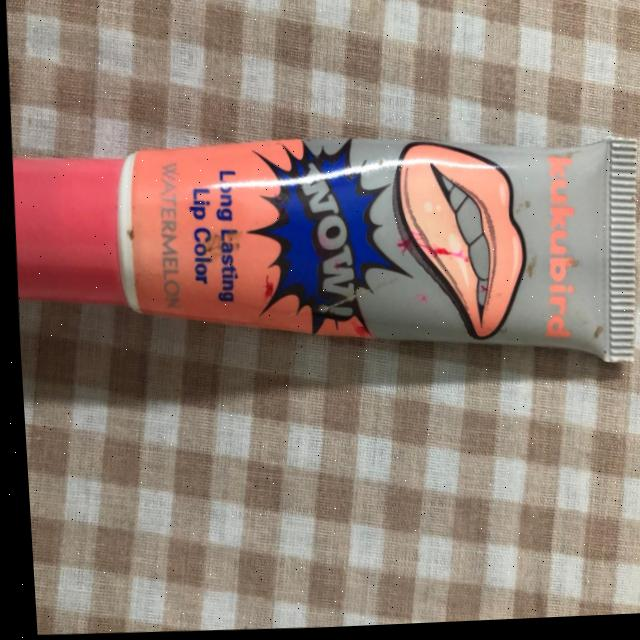Tint: (6, 109, 640, 396)
